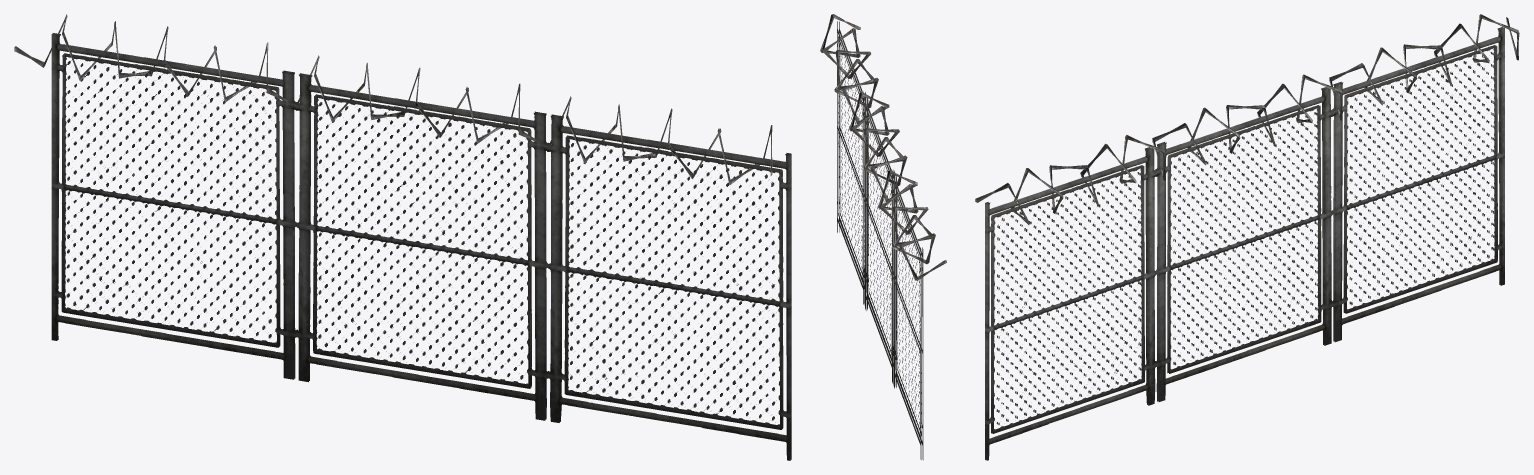
The model's file is boards.glb.
3 views of the same model, side by side, from view 1: azimuth 30°, elevation 25°; view 2: azimuth 150°, elevation 25°; view 3: azimuth 270°, elevation 25° (orthographic). The views are drawn at different scales.
Bounding box in the file's own units: 1.49 × 1 × 1.79.
2 materials, 2 textured.
